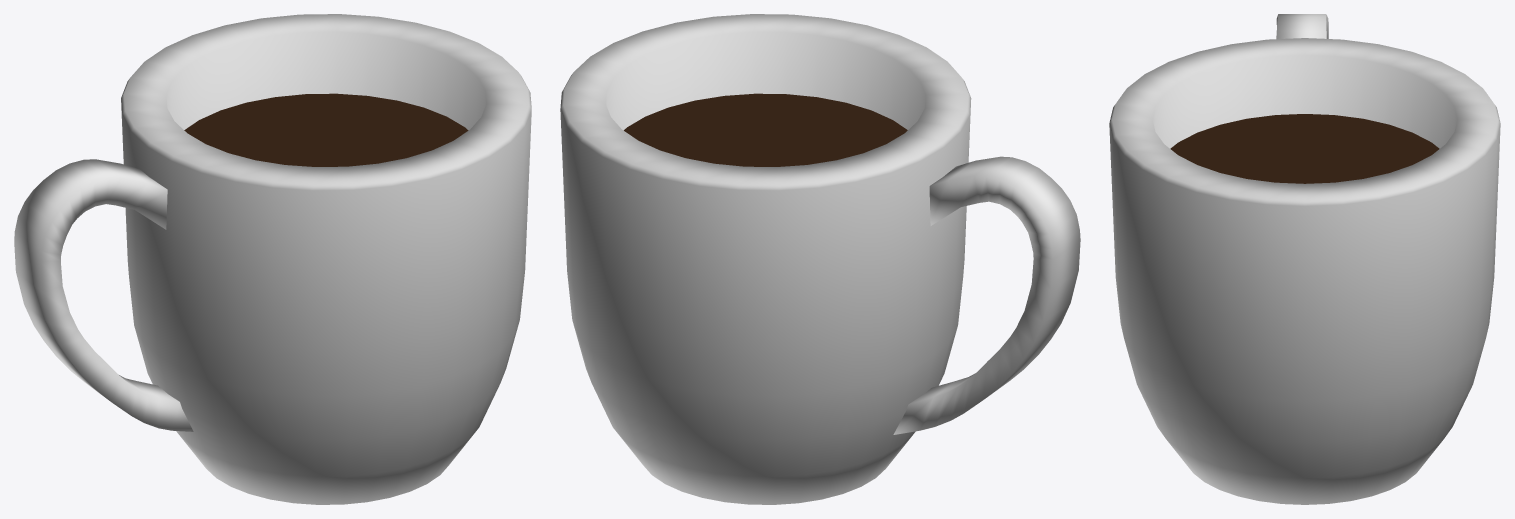
The model's file is cup-smooth.glb.
3 renders of one model, left to right at view 1: azimuth 30°, elevation 25°; view 2: azimuth 150°, elevation 25°; view 3: azimuth 270°, elevation 25°, orthographic. The views are drawn at different scales.
Visible parts, largest first — view 1: cup; view 2: cup; view 3: cup.
Part boxes in pixels (x1=…): cup: x1=14, y1=14, x2=531, y2=504; cup: x1=560, y1=14, x2=1080, y2=504; cup: x1=1109, y1=14, x2=1500, y2=504.
Size of the model in its own units: 0.859 by 0.6039 by 0.6403.
